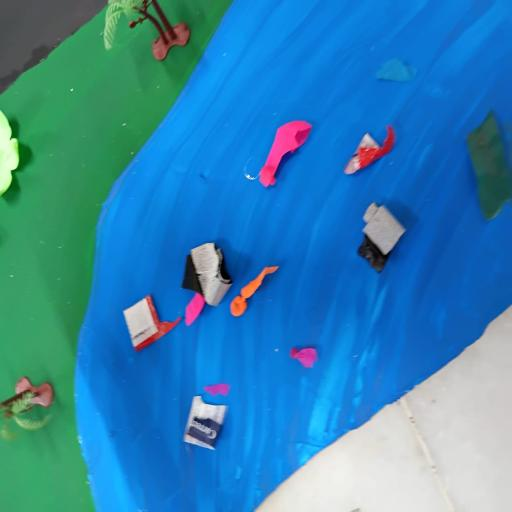trash: (463, 109, 512, 226), (250, 117, 320, 194), (178, 237, 230, 324), (180, 378, 236, 454), (355, 200, 408, 274), (115, 304, 185, 346), (344, 124, 400, 175), (235, 261, 279, 317), (373, 56, 421, 86), (290, 345, 322, 370)
